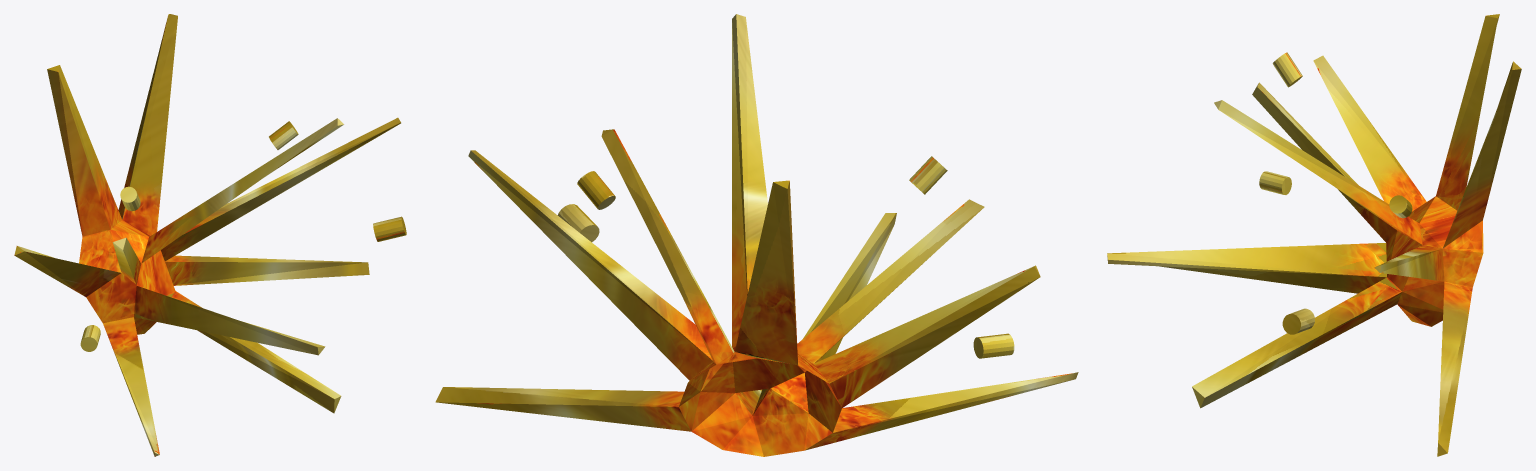
Rendered from Splash.obj.
3 views of the same model, side by side, from view 1: azimuth 30°, elevation 25°; view 2: azimuth 150°, elevation 25°; view 3: azimuth 270°, elevation 25° (orthographic). The views are drawn at different scales.
Visible parts, largest first — view 1: Icosphere_Icosphere.001; view 2: Icosphere_Icosphere.001; view 3: Icosphere_Icosphere.001.
Boxes of the visible parts, left/top/right/bottom form: Icosphere_Icosphere.001: left=14, top=14, right=406, bottom=456; Icosphere_Icosphere.001: left=435, top=14, right=1078, bottom=456; Icosphere_Icosphere.001: left=1107, top=14, right=1521, bottom=456.
Bounding box in the file's own units: 0.532 × 0.3707 × 0.4171.
Materials: 1 (1 with a texture image).
